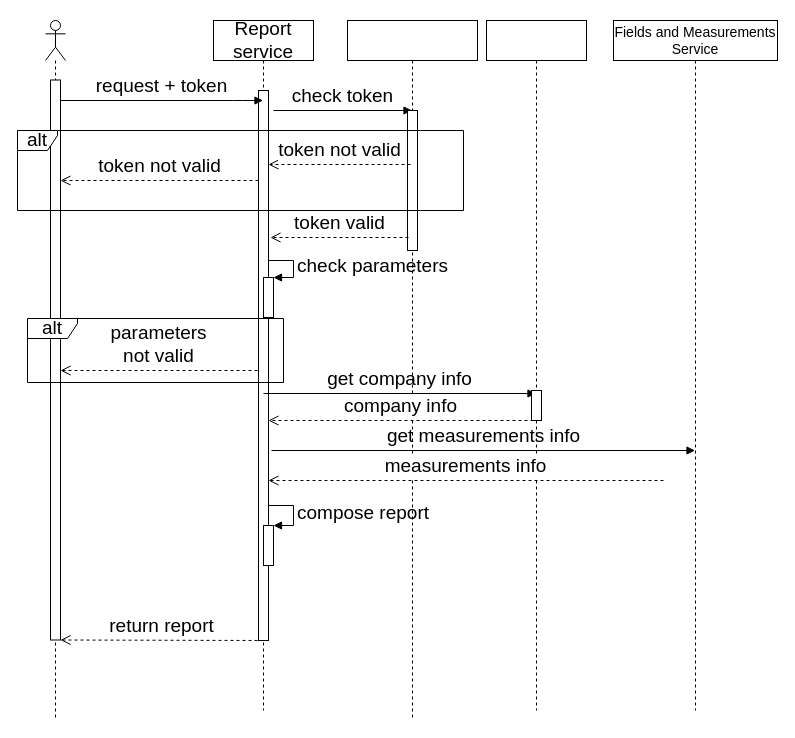
This 795x738 diagram has some shape labels left out. The centre of each missing label's shape, as x and y in pixels:
Authentication: the point at 412,370
Company Repository: the point at 536,365
